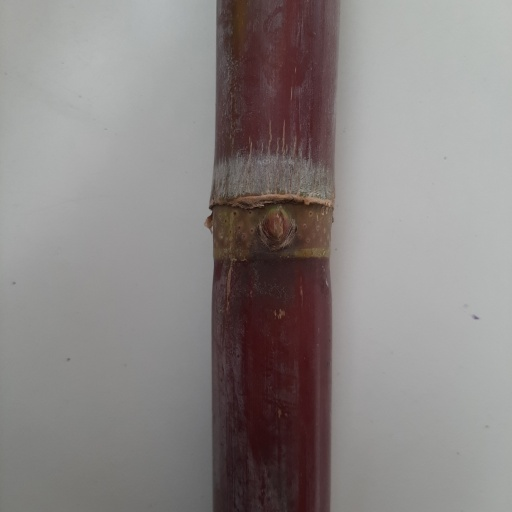Bud: (257, 205, 294, 250)
